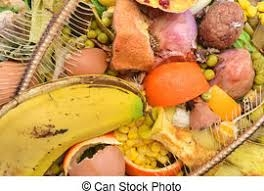kitchen_waste: (1, 83, 142, 176), (157, 88, 264, 177), (1, 1, 94, 103), (105, 1, 159, 77), (142, 58, 217, 111), (145, 8, 205, 60), (208, 46, 263, 101), (200, 1, 248, 49), (67, 144, 136, 177), (203, 85, 242, 119), (66, 49, 108, 76), (200, 67, 217, 79), (204, 54, 219, 67), (82, 39, 96, 48), (98, 32, 109, 43), (86, 30, 96, 36)
